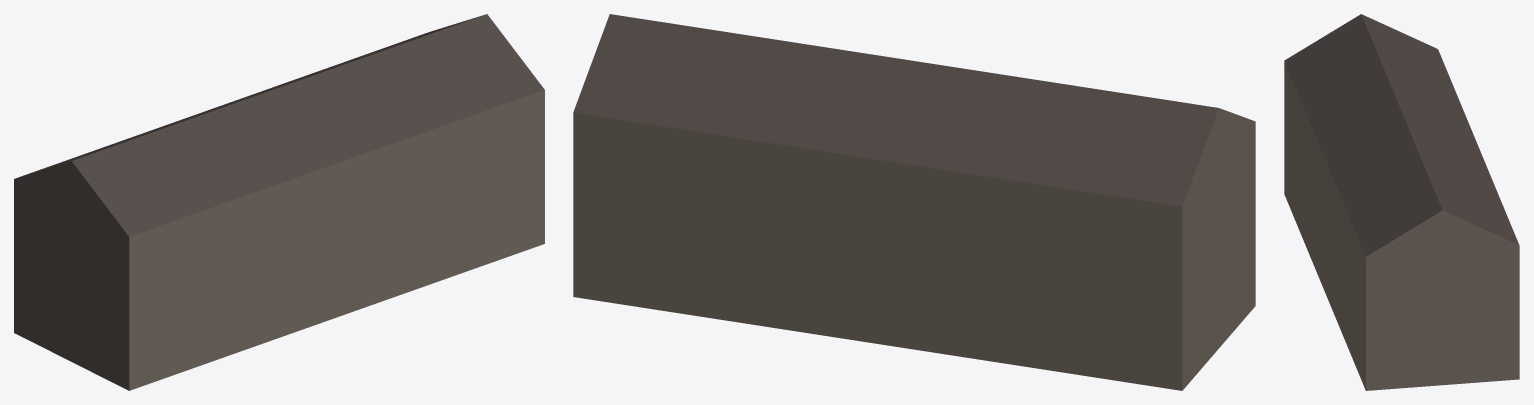
The picture shows the model from 3 angles, left to right: view 1: azimuth 30°, elevation 25°; view 2: azimuth 150°, elevation 25°; view 3: azimuth 270°, elevation 25°; orthographic projection. The views are drawn at different scales.
Parts seen in each view (by area): view 1: HP-w389701798; view 2: HP-w389701798; view 3: HP-w389701798.
Part boxes in pixels (x1,y1,x2,y2): HP-w389701798: [14, 14, 544, 390]; HP-w389701798: [573, 14, 1255, 390]; HP-w389701798: [1284, 14, 1519, 390].
Bounding box in the file's own units: 19.95 × 7.83 × 9.54.
